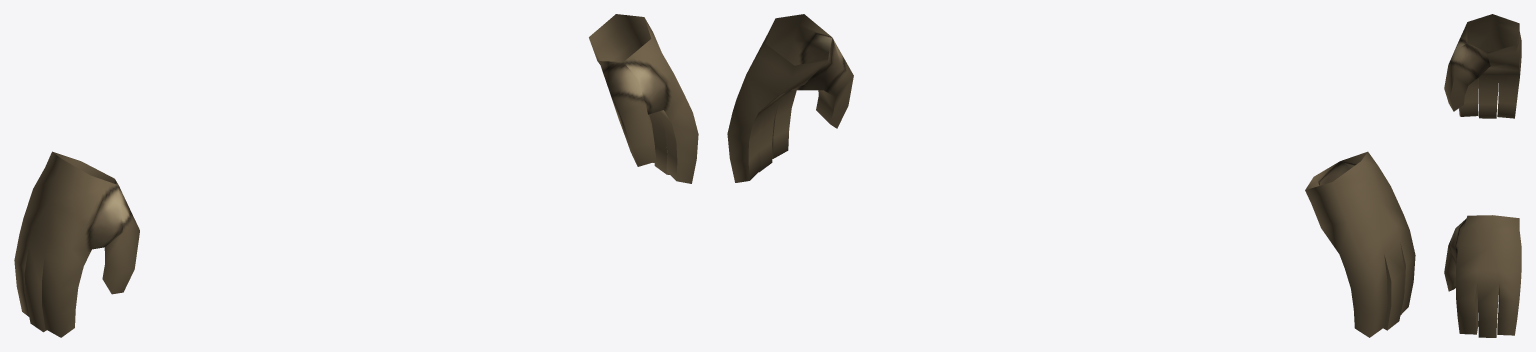
The model's file is hum_cloth_c_9bdfe50f.glb.
The picture shows the model from 3 angles, left to right: view 1: azimuth 30°, elevation 25°; view 2: azimuth 150°, elevation 25°; view 3: azimuth 270°, elevation 25°; orthographic projection. The views are drawn at different scales.
Bounding box in the file's own units: 1.7 × 0.3987 × 0.2485.
1 material, 1 textured.
